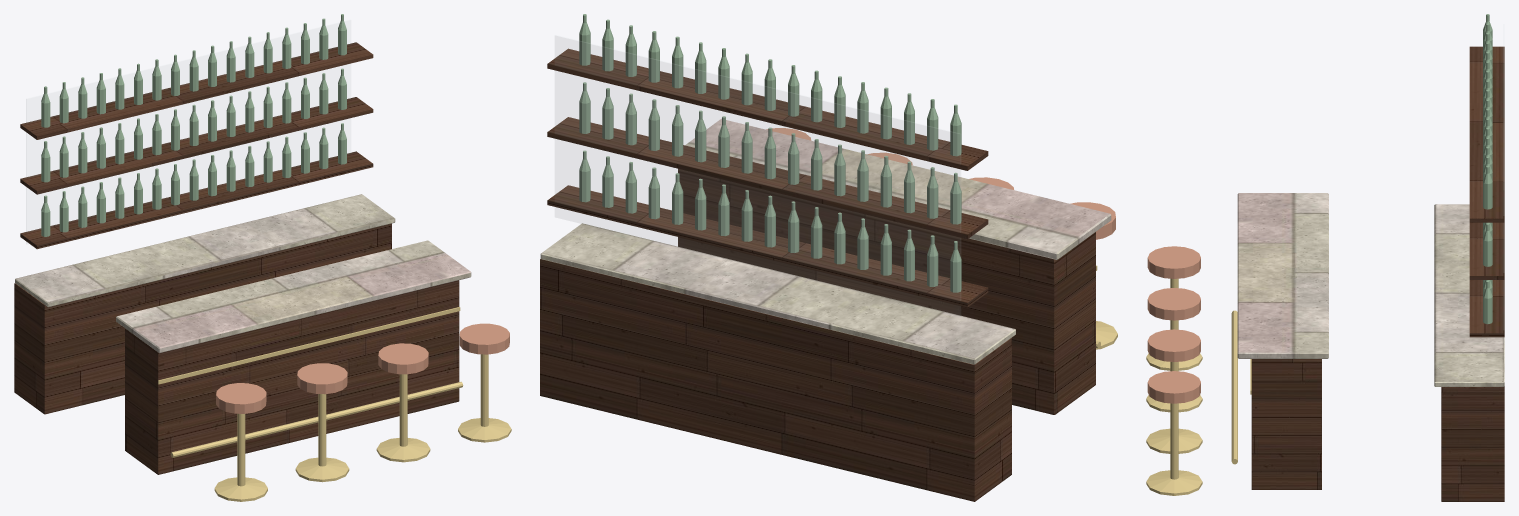
File: bar.glb
3 views of the same model, side by side, from view 1: azimuth 30°, elevation 25°; view 2: azimuth 150°, elevation 25°; view 3: azimuth 270°, elevation 25° (orthographic). The views are drawn at different scales.
Parts seen in each view (by area): view 1: bar_dkwood, bar_stone_f, bar_glass, bar_bottle, bar_gold, bar_fabric2; view 2: bar_dkwood, bar_glass, bar_stone_f, bar_bottle, bar_fabric2; view 3: bar_dkwood, bar_stone_f, bar_fabric2, bar_gold, bar_bottle.
Boxes of the visible parts, x1=… form: bar_dkwood: x1=14, y1=42, x2=459, y2=474; bar_stone_f: x1=15, y1=194, x2=471, y2=353; bar_glass: x1=26, y1=20, x2=350, y2=243; bar_bottle: x1=41, y1=14, x2=346, y2=236; bar_gold: x1=158, y1=307, x2=511, y2=501; bar_fabric2: x1=216, y1=323, x2=509, y2=413; bar_dkwood: x1=540, y1=48, x2=1095, y2=501; bar_glass: x1=555, y1=35, x2=960, y2=315; bar_stone_f: x1=540, y1=118, x2=1111, y2=364; bar_bottle: x1=579, y1=14, x2=961, y2=292; bar_fabric2: x1=766, y1=128, x2=1115, y2=239; bar_dkwood: x1=1251, y1=46, x2=1504, y2=501; bar_stone_f: x1=1237, y1=193, x2=1504, y2=386; bar_fabric2: x1=1147, y1=246, x2=1200, y2=403; bar_gold: x1=1146, y1=278, x2=1251, y2=495; bar_bottle: x1=1483, y1=14, x2=1492, y2=324.
Bounding box in the file's own units: 3 × 2.52 × 2.55.
6 materials, 2 textured.
